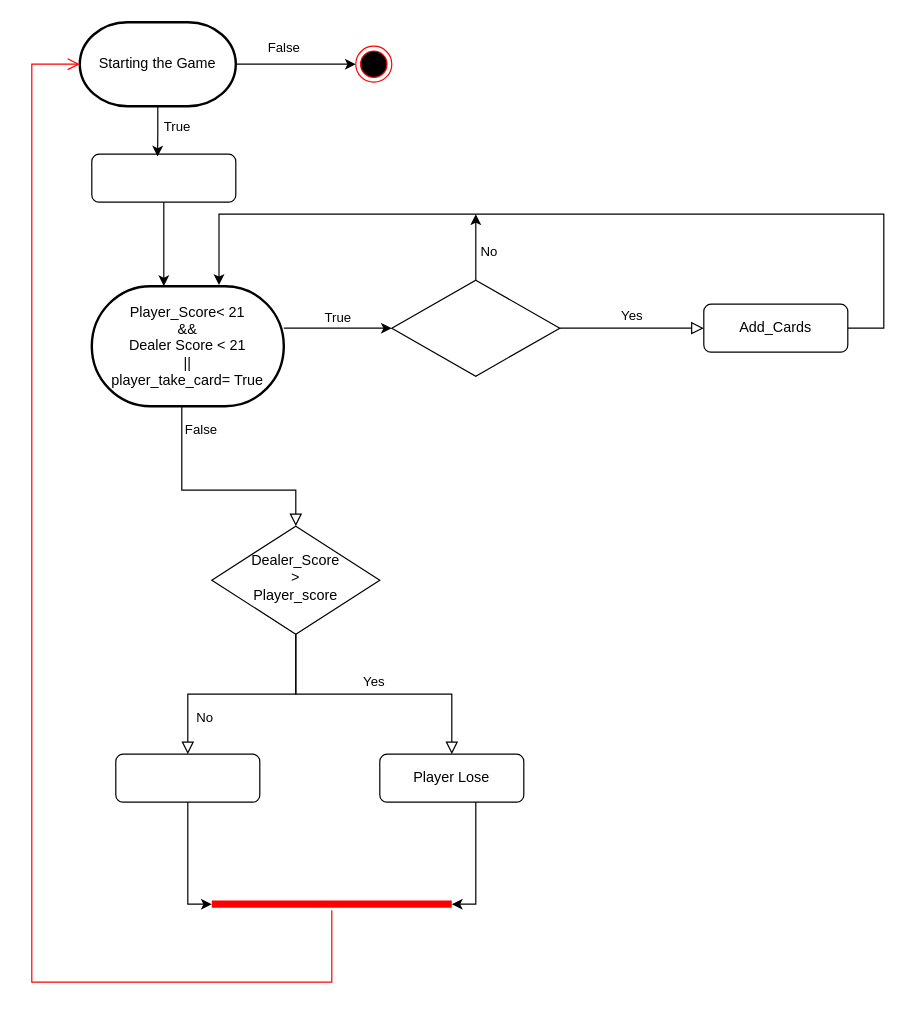
This 914x1015 diagram has some shape labels left out. Here are the shapes that lost their labels. From the top down, the centre of each, then its label:
At point 163,177: "player and dealer gets their first Cards".
At point 475,327: "player take other card".
At point 187,777: "Player Win".
